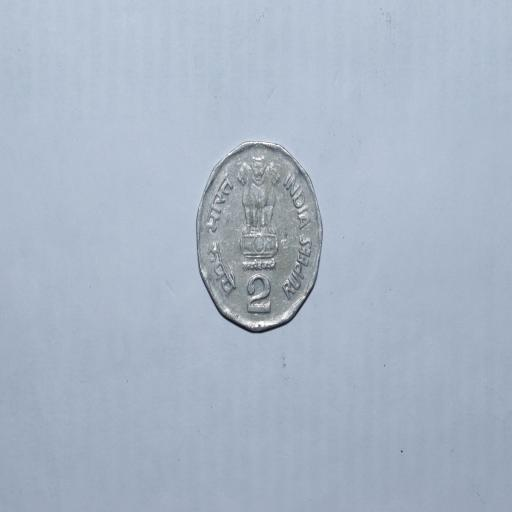rupee2: (193, 137, 324, 333)
